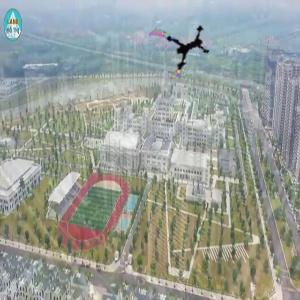drone: (153, 20, 215, 82)
